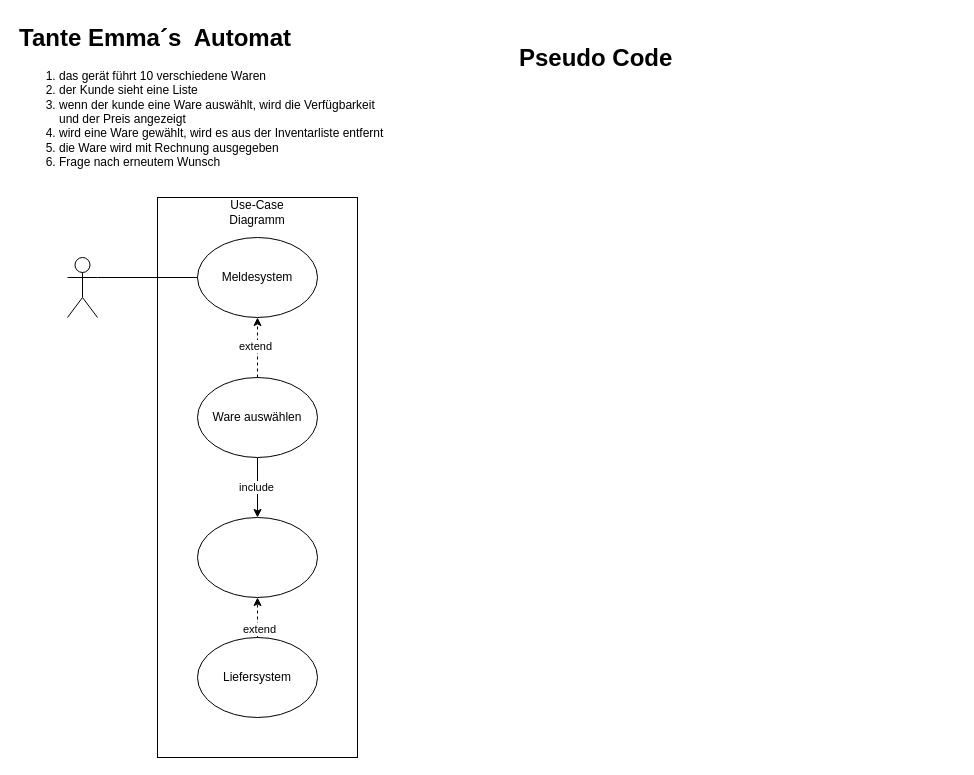
The diagram is 974 pixels wide and 775 high, and some of its shapes have lost their labels. The centre of each missing label's shape, as x and y in pixels:
Actor: the point at 82,287
Inventarsystem: the point at 257,557
